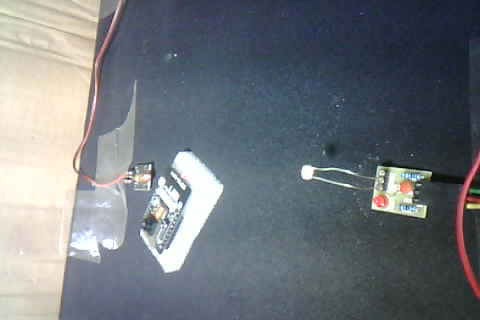esp32: (139, 161, 205, 265)
